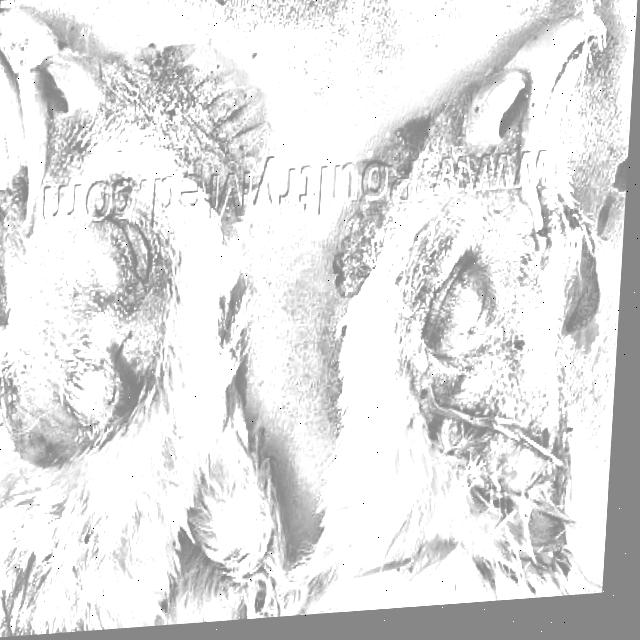Infectios bronchitis: (0, 0, 269, 464), (335, 34, 602, 462)
